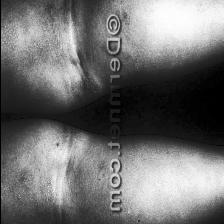Non-Cancerous Skin Condition: (62, 56, 96, 100), (42, 0, 56, 31), (51, 139, 60, 153)
